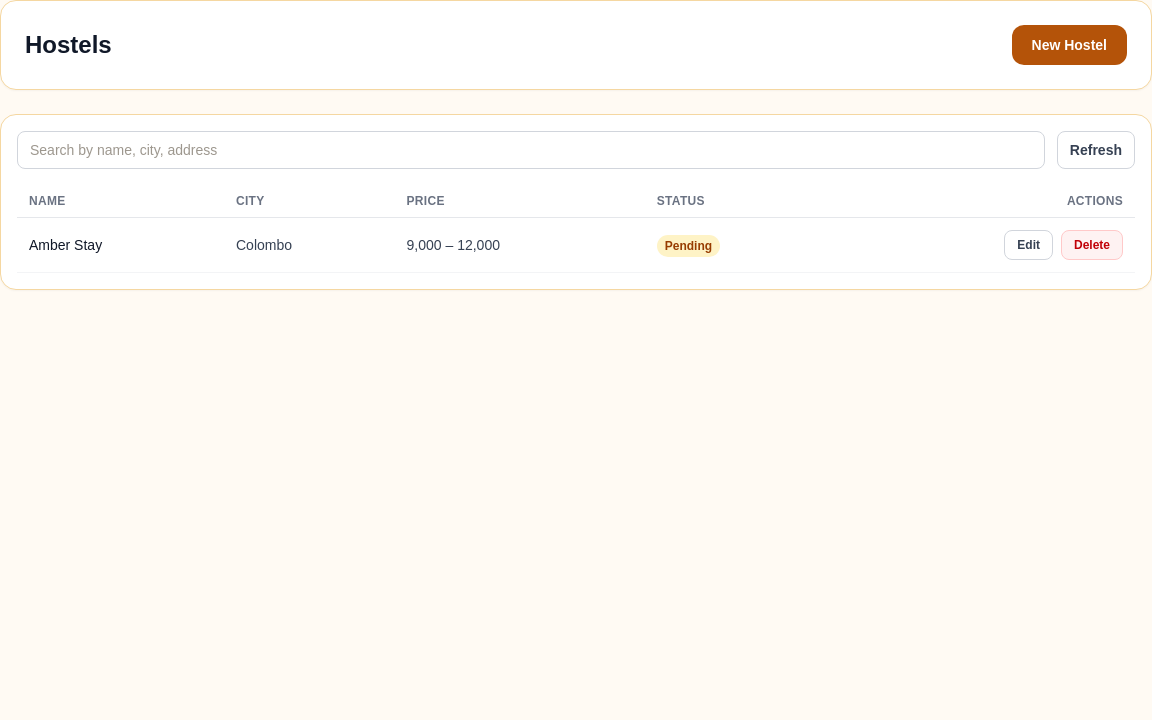
Admin hostels page › shows validation error when maps URL is missing
Expected: the text "Amber Stay" is shown, left=17, top=218, right=224, bottom=272
Click the button "New Hostel" at (1069, 45), box left=1012, top=25, right=1127, bottom=65
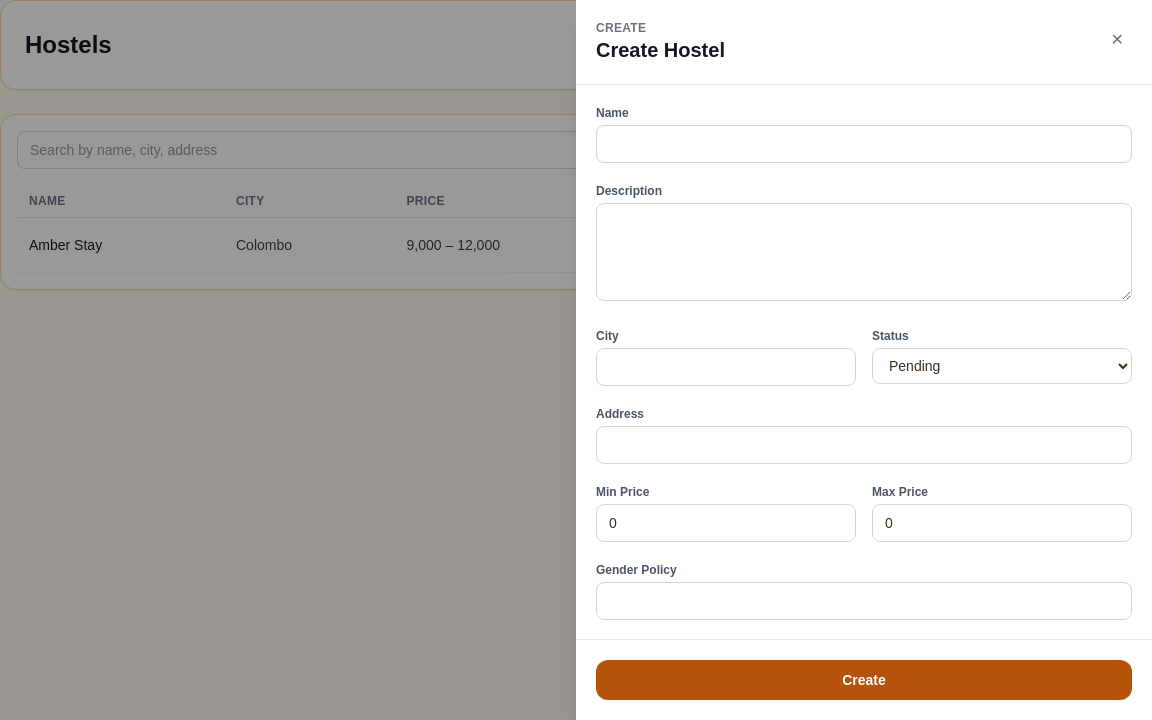
Type "New Hostel" into the 1st field at (864, 144), box left=596, top=125, right=1132, bottom=163
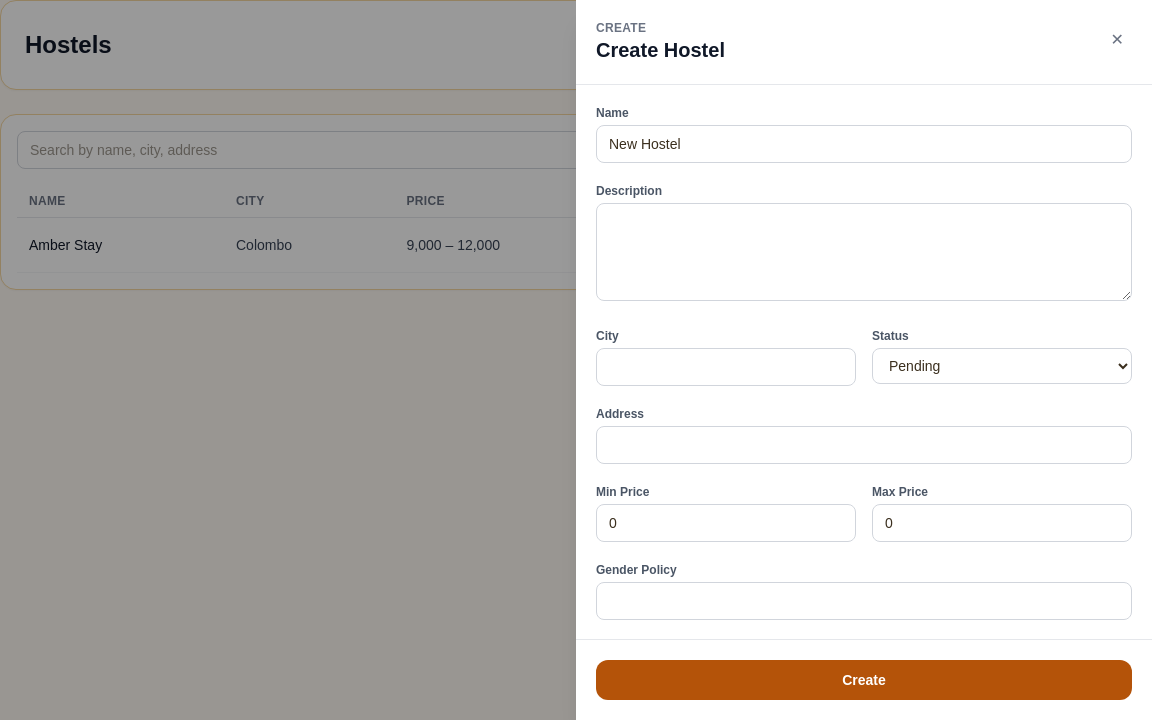
Click the button "Create" at (864, 680), box left=596, top=660, right=1132, bottom=700
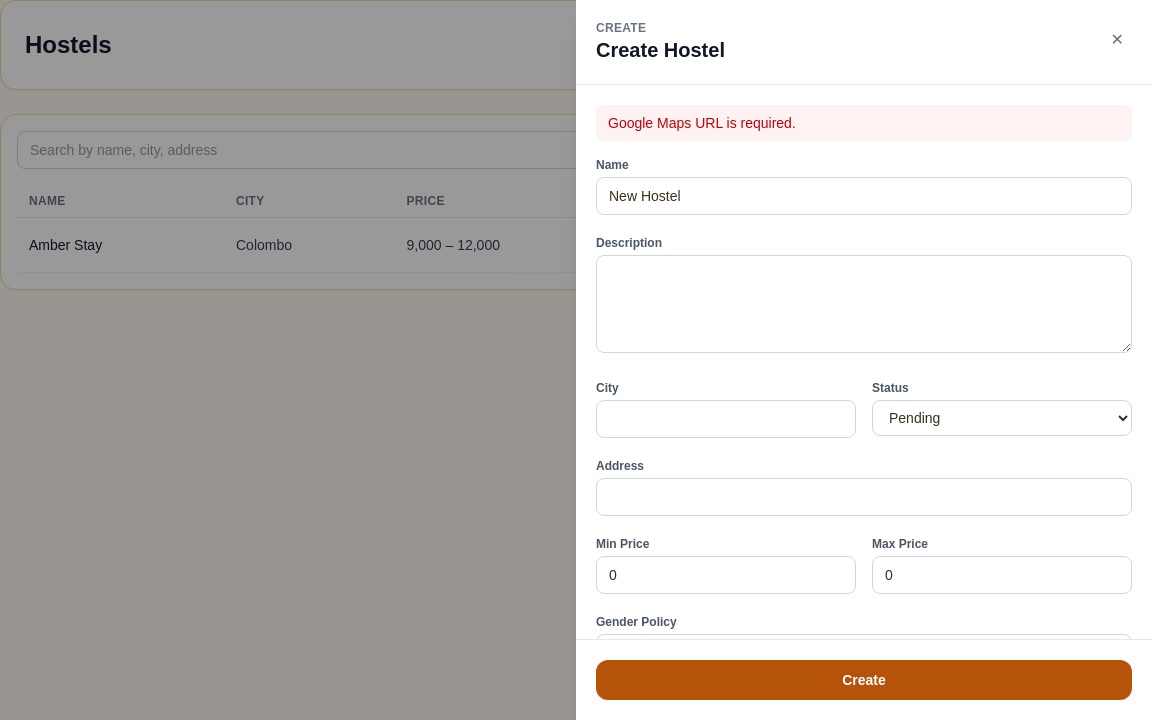
Result: the text "Google Maps URL is required." is shown at left=596, top=105, right=1132, bottom=141
